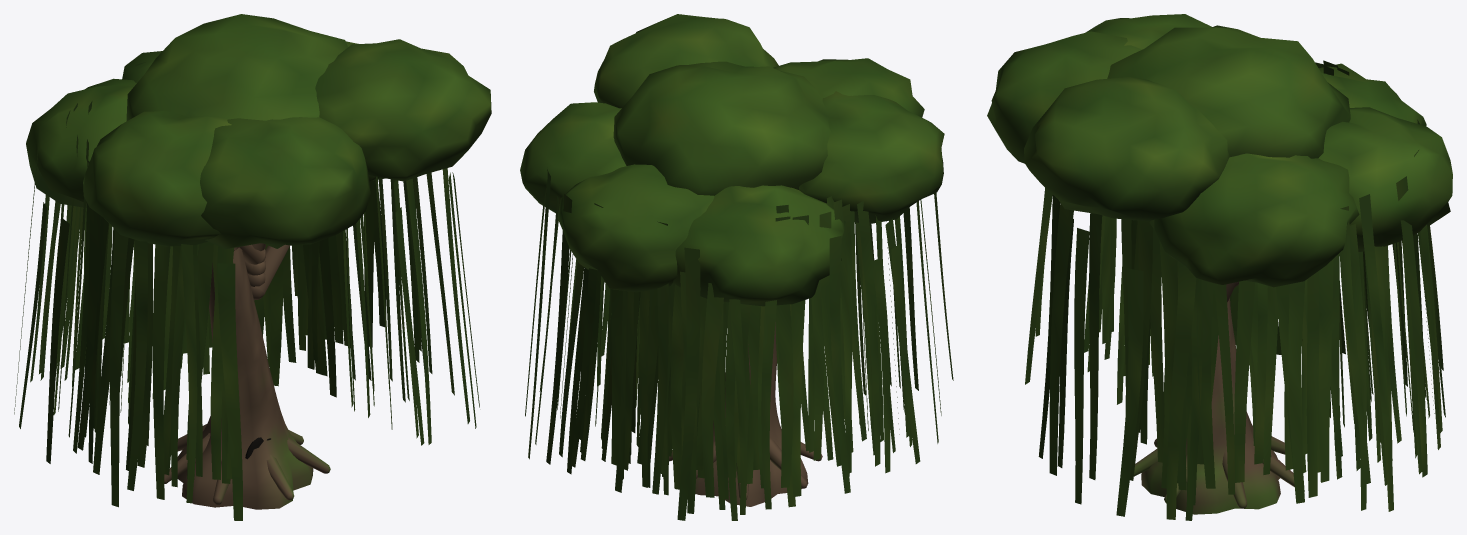
The model's file is Willow.glb.
The picture shows the model from 3 angles, left to right: view 1: azimuth 30°, elevation 25°; view 2: azimuth 150°, elevation 25°; view 3: azimuth 270°, elevation 25°; orthographic projection. The views are drawn at different scales.
Parts seen in each view (by area): view 1: Leaves, Trunk; view 2: Leaves, Trunk; view 3: Leaves, Trunk.
Boxes of the visible parts, bbox=[...] form: Leaves: bbox=[14, 14, 491, 520]; Trunk: bbox=[164, 243, 330, 509]; Leaves: bbox=[520, 14, 953, 520]; Trunk: bbox=[669, 322, 822, 506]; Leaves: bbox=[987, 14, 1452, 520]; Trunk: bbox=[1134, 281, 1294, 514].
Size of the model in its own units: 5.57 by 5.79 by 5.45.
